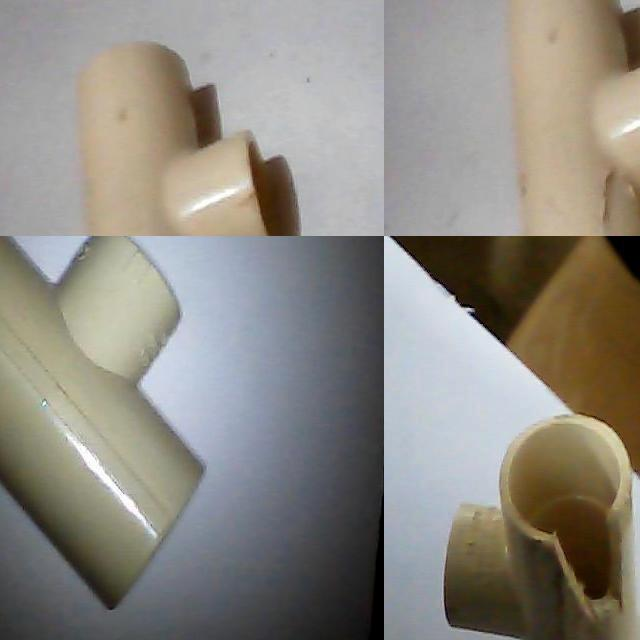Defective: (534, 498, 630, 604), (552, 517, 636, 627), (593, 167, 640, 236)
T Joint: (444, 414, 640, 640), (77, 43, 269, 236), (508, 0, 640, 236)
